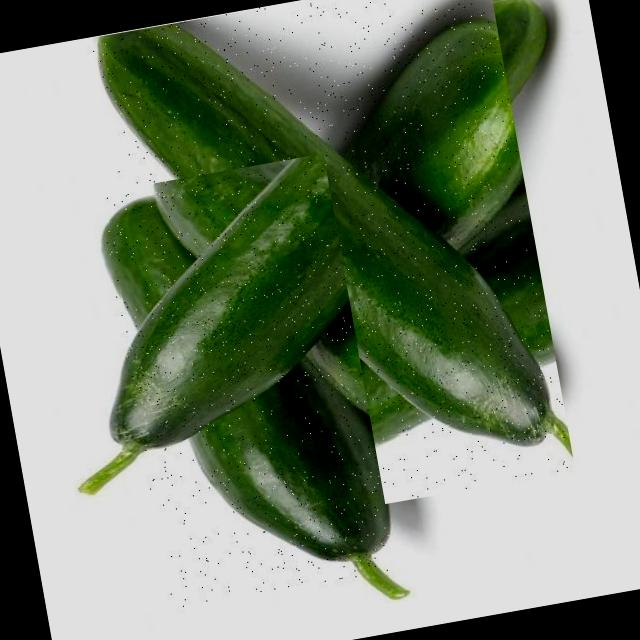Cucumber: (71, 0, 563, 513), (56, 161, 374, 463), (168, 360, 392, 586)
